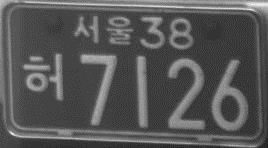1: (132, 54, 154, 129)
2: (167, 58, 208, 132)
3: (139, 14, 166, 51)
6: (208, 58, 250, 132)
7: (78, 52, 119, 128)
8: (168, 16, 196, 50)
서울_O: (71, 14, 134, 45)
허: (21, 51, 65, 101)
